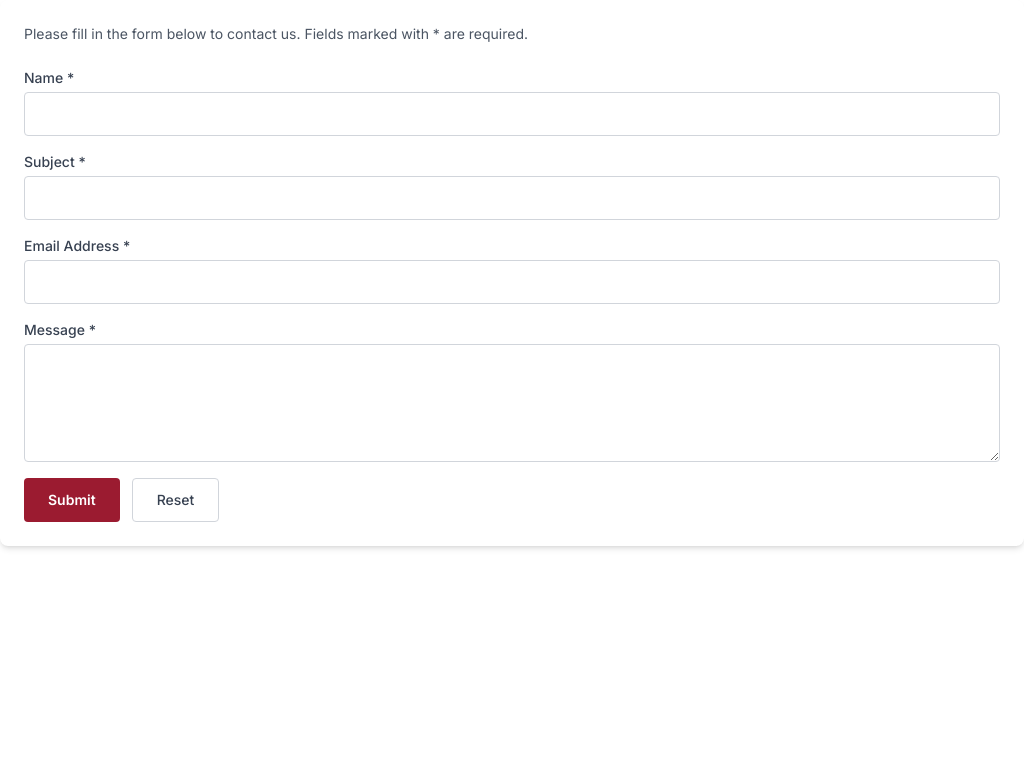
Test: ContactForm › resets all fields on reset
Step 1. Type "John" into the field labelled "Name *" → (512, 114), box [24,92,1000,136]
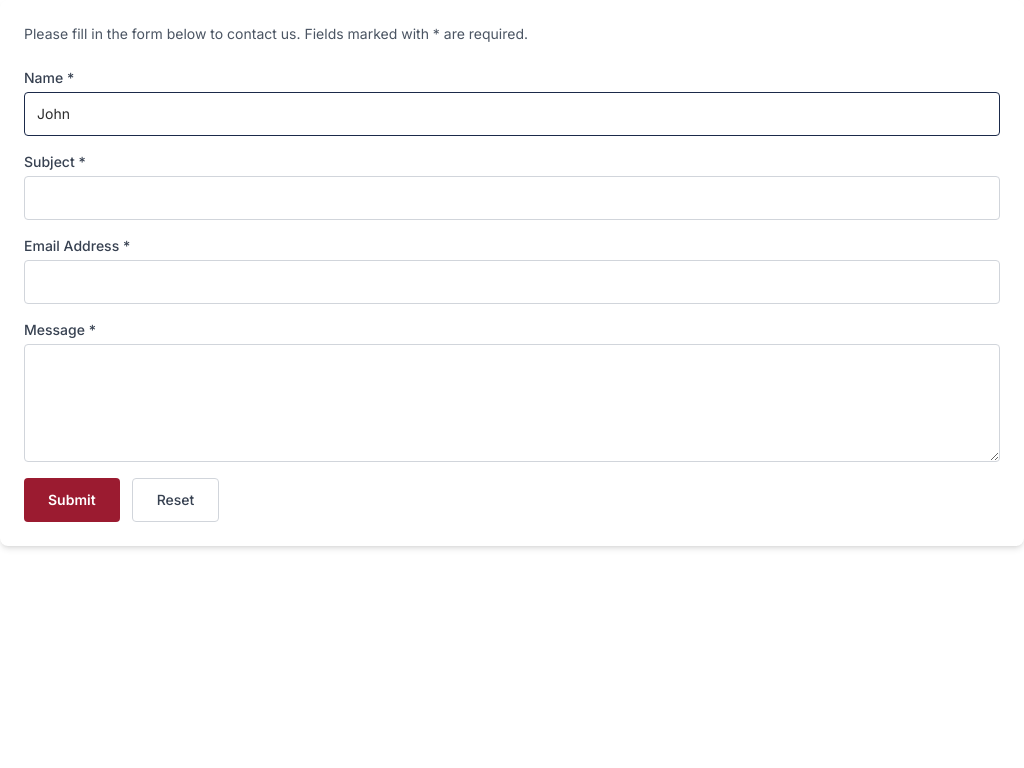
Step 2. Click the button "Reset" → click(175, 500), box [132,478,219,522]
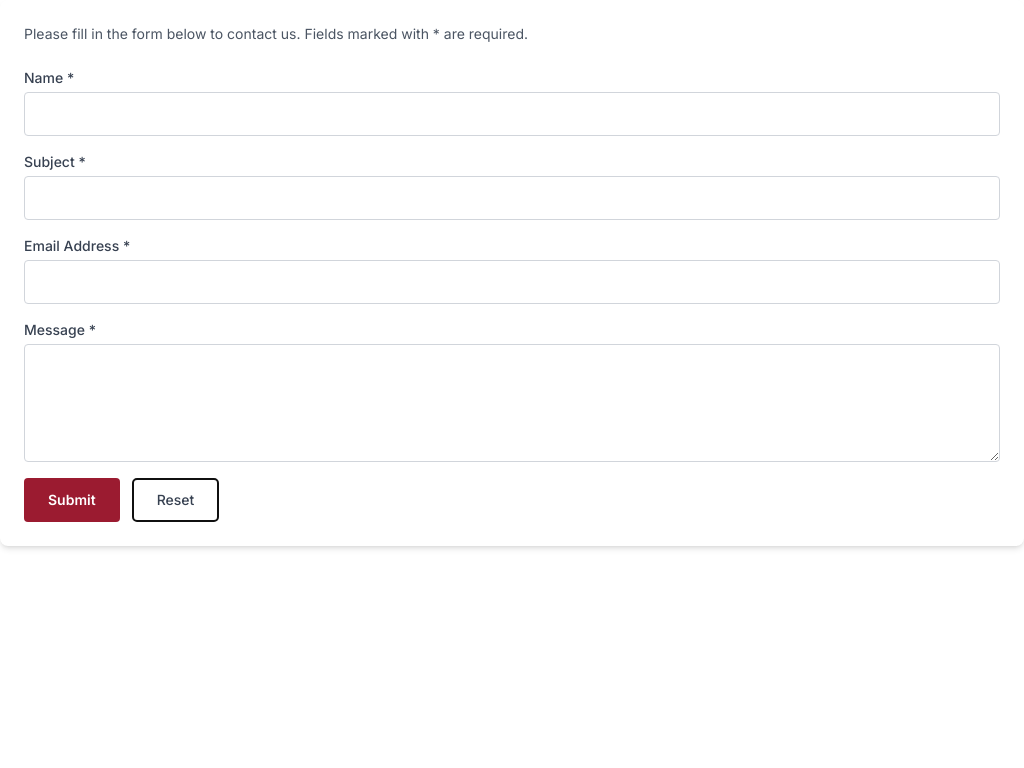
Expected: the field labelled "Name *" is empty, [24,92,1000,136]
